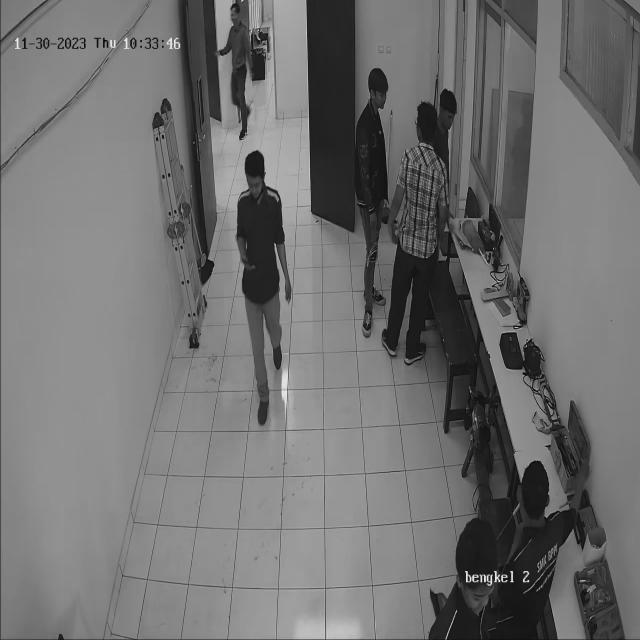person: (238, 146, 286, 418), (394, 94, 441, 350), (358, 61, 384, 346)
